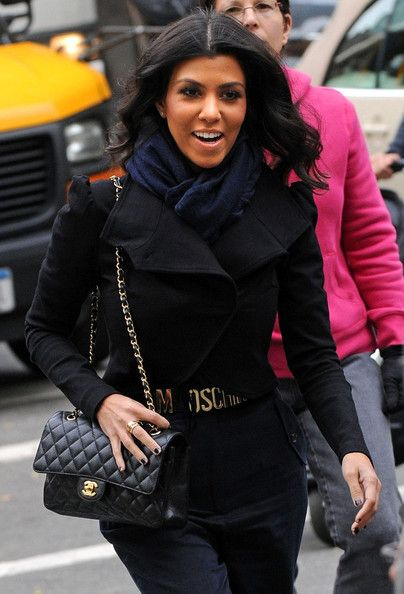channel: (23, 406, 196, 528), (75, 470, 103, 505)
